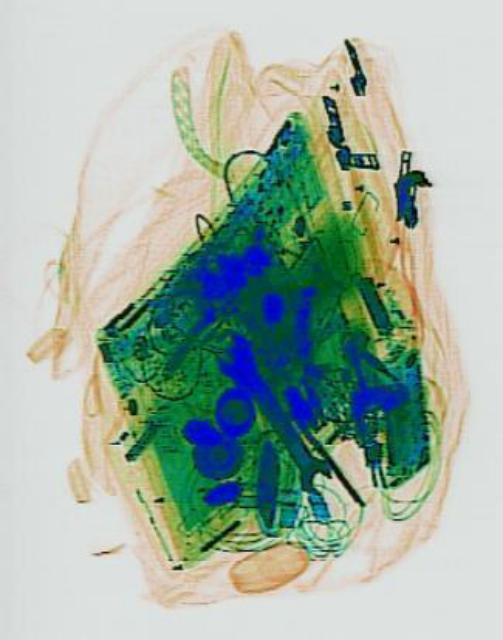Wrench: (210, 328, 337, 502)
